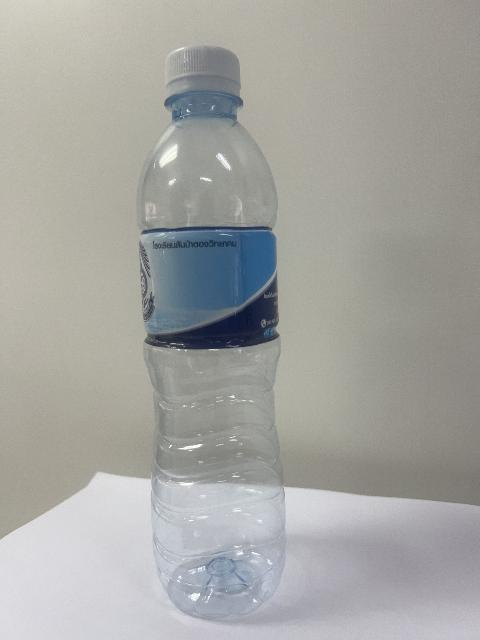bottle: (138, 47, 285, 617)
